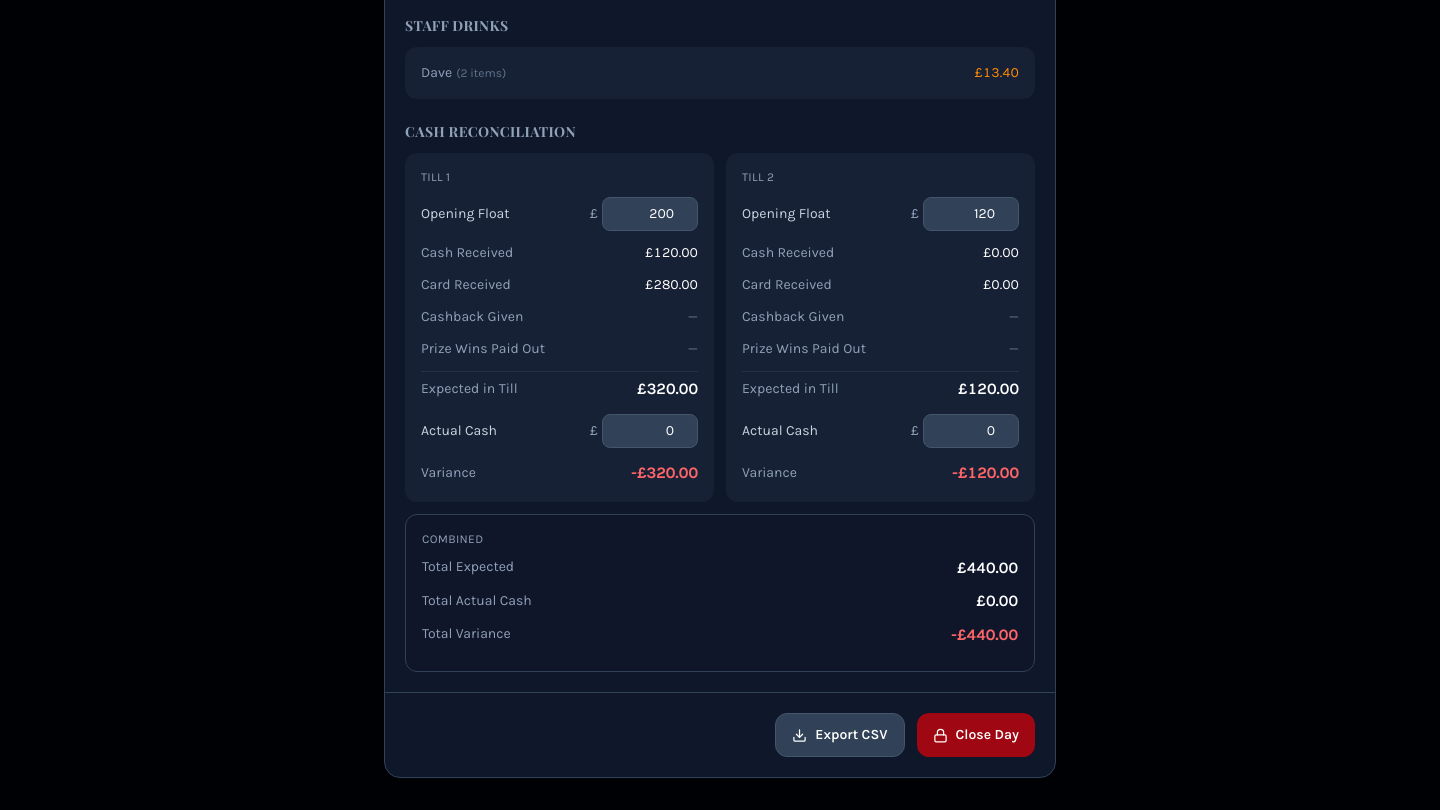
Test: ZReportModal — Close Day › Close Day shows error when upsert fails
This screenshot has width=1440, height=810.
(page scrolled)
Click the button "Close Day". click: (976, 735)
box: [916,713,1035,757]
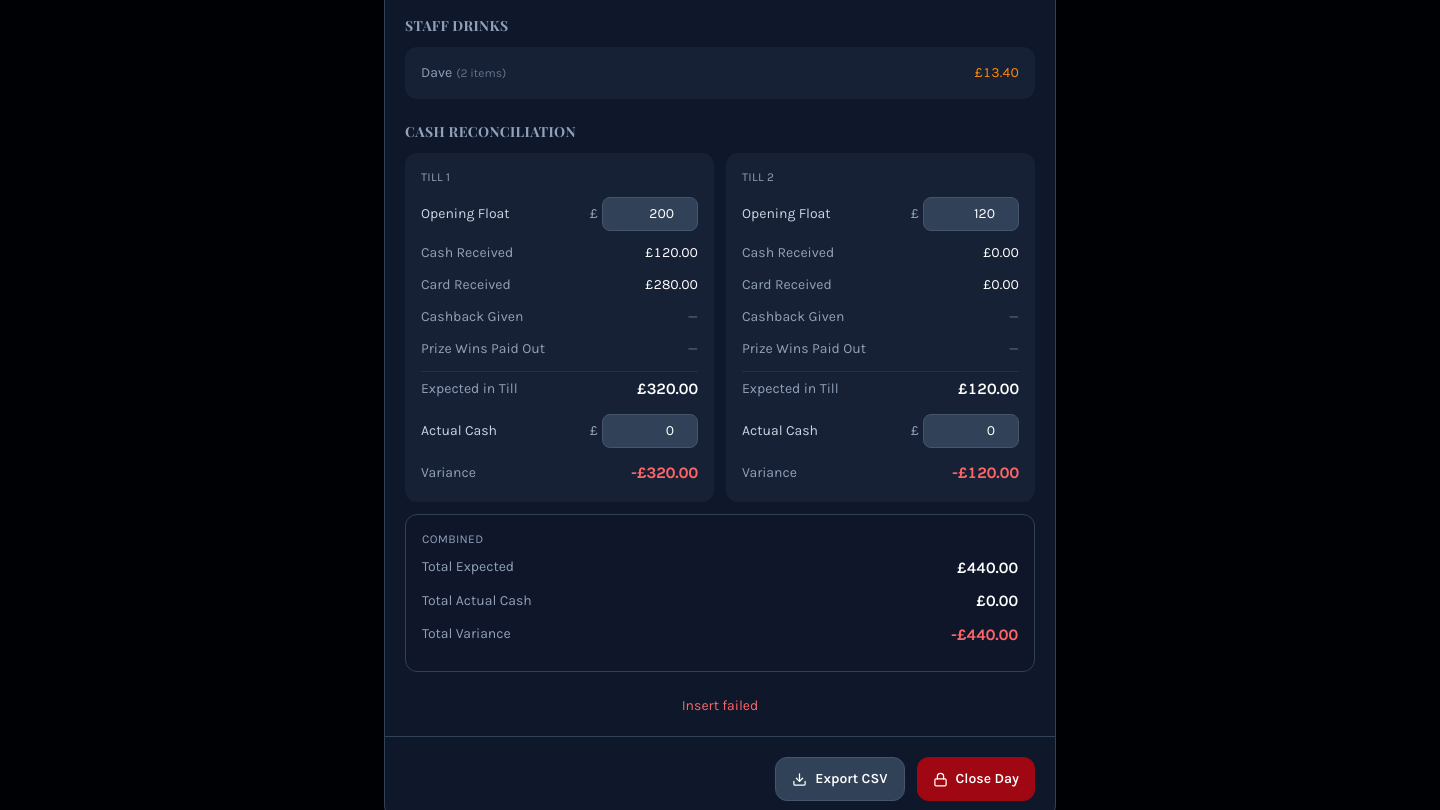
Expected: the text "Insert failed" is shown, [682,697,758,714]
